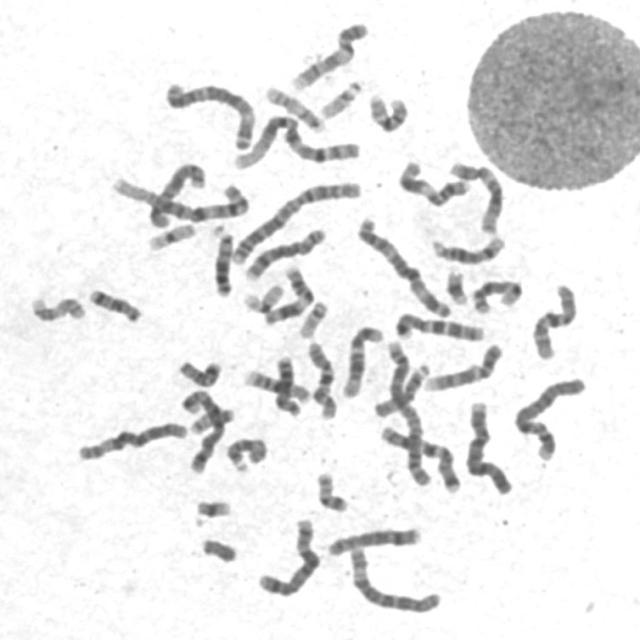A1: (228, 110, 362, 171), (106, 172, 254, 224)
A2: (227, 176, 365, 266), (381, 334, 434, 489)
A3: (352, 212, 454, 320), (159, 76, 259, 150)
B4: (509, 372, 589, 462), (461, 396, 515, 496)
B5: (252, 513, 323, 598), (175, 384, 228, 476)
C10: (527, 278, 581, 362), (302, 335, 341, 421)
C11: (393, 155, 473, 209), (259, 260, 316, 327)
C12: (446, 155, 506, 236), (337, 320, 385, 400)
C6: (344, 542, 445, 616), (72, 416, 190, 464)
C7: (375, 420, 464, 494), (390, 307, 488, 343)
C8: (240, 223, 329, 282), (322, 521, 424, 559)
C9: (286, 16, 371, 92), (420, 338, 506, 393)
D13: (269, 349, 303, 418), (207, 220, 237, 298)
D14: (426, 230, 509, 266), (466, 274, 525, 316)
D15: (369, 358, 433, 420), (221, 433, 270, 475)
E16: (239, 363, 313, 406), (363, 88, 412, 133)
E17: (260, 80, 327, 133), (26, 290, 88, 324)
E18: (84, 283, 144, 324), (172, 354, 225, 388)
F19: (143, 217, 200, 253), (239, 279, 285, 315)
F20: (312, 467, 351, 515), (185, 403, 236, 436)
G21: (190, 493, 234, 523), (442, 264, 471, 306)
G22: (315, 74, 366, 120), (294, 295, 330, 340)
X: (144, 157, 209, 230)
Y: (196, 533, 239, 565)
